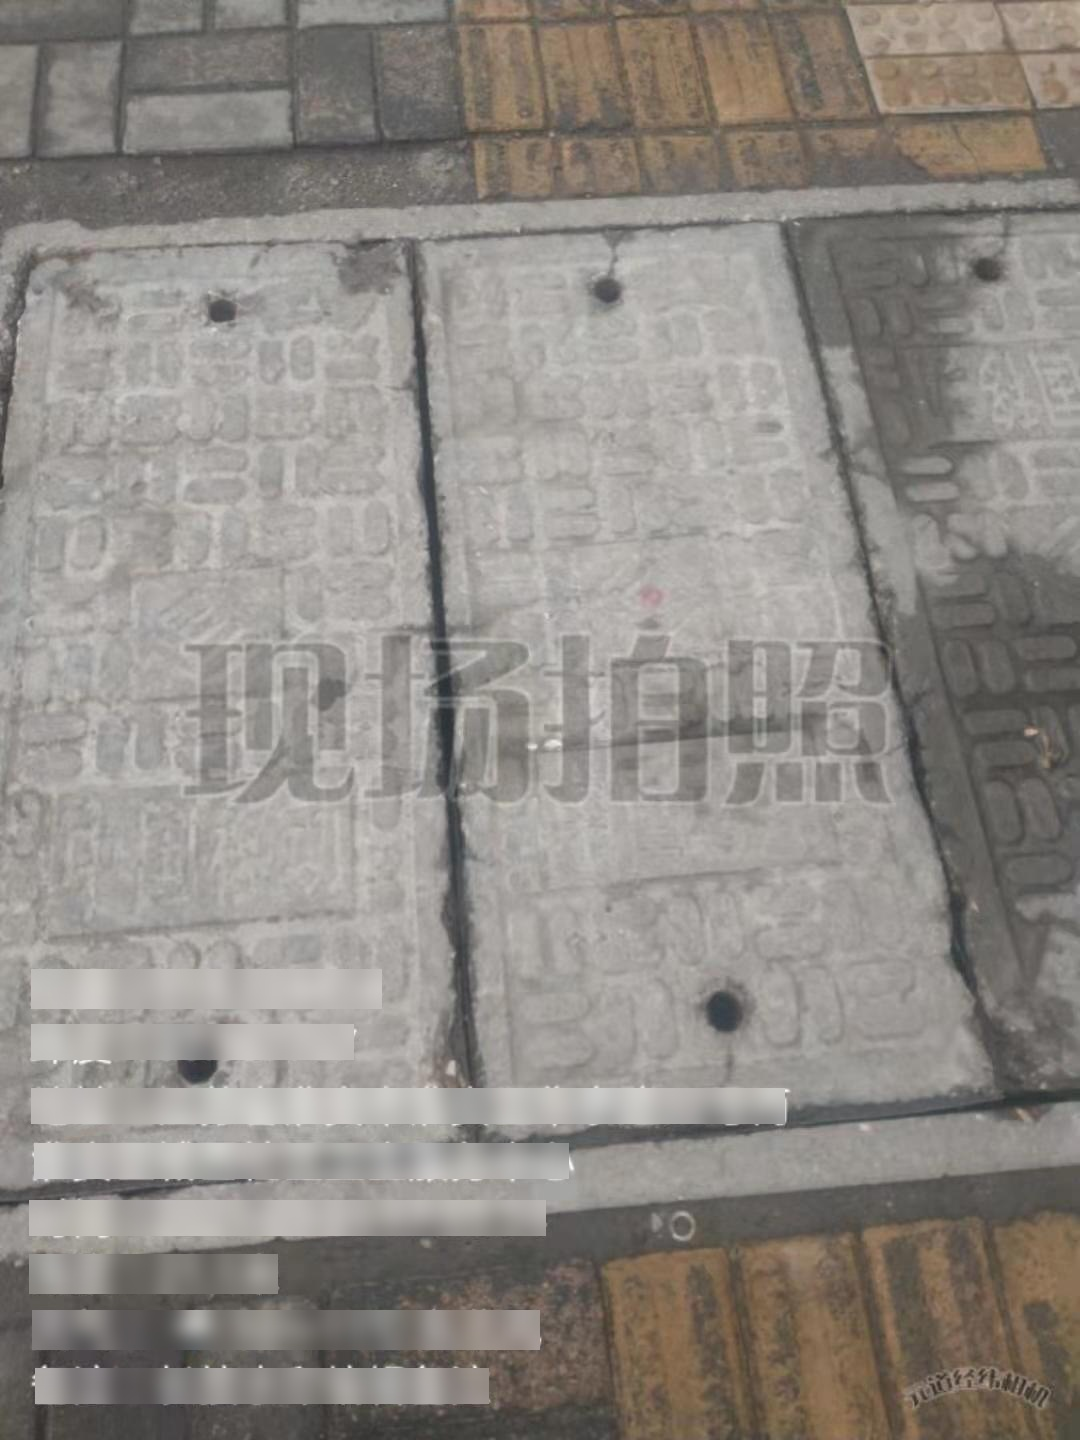well: (22, 172, 1080, 1231)
